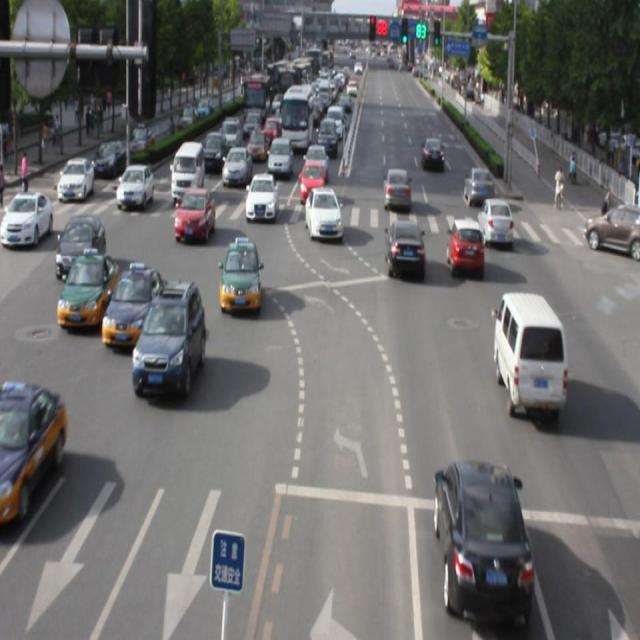car: (436, 458, 531, 621), (1, 379, 65, 523), (133, 280, 206, 396), (101, 264, 164, 348), (58, 251, 119, 331), (218, 238, 262, 314), (384, 217, 424, 274), (175, 185, 214, 242), (447, 218, 484, 275), (304, 185, 341, 238), (478, 197, 513, 245), (245, 171, 276, 220)
truck: (494, 292, 566, 414)
